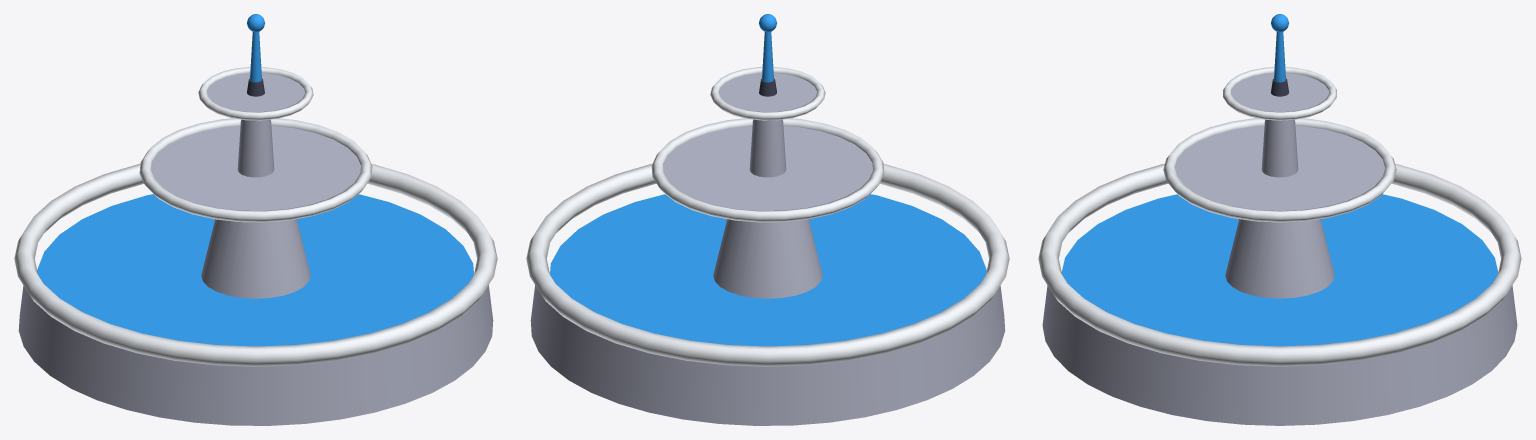
Rendered from fountain.glb.
3 views of the same model, side by side, from view 1: azimuth 30°, elevation 25°; view 2: azimuth 150°, elevation 25°; view 3: azimuth 270°, elevation 25° (orthographic).
Visible parts, largest first — view 1: basin_water, basin_wall, basin_rim, lower_bowl, fountain_pedestal, lower_bowl_rim, upper_bowl, upper_bowl_rim, fountain_column, jet_plume; view 2: basin_water, basin_wall, basin_rim, lower_bowl, fountain_pedestal, lower_bowl_rim, upper_bowl, upper_bowl_rim, fountain_column, jet_plume; view 3: basin_water, basin_wall, basin_rim, lower_bowl, fountain_pedestal, lower_bowl_rim, upper_bowl, fountain_column, upper_bowl_rim, jet_plume.
Boxes of the visible parts, box(x1,y1,x2,y2) form: basin_water: box(37, 194, 473, 346); basin_wall: box(18, 285, 493, 425); basin_rim: box(14, 163, 497, 366); lower_bowl: box(151, 125, 360, 210); fountain_pedestal: box(201, 219, 310, 298); lower_bowl_rim: box(139, 118, 372, 222); upper_bowl: box(207, 73, 304, 120); upper_bowl_rim: box(198, 67, 313, 120); fountain_column: box(237, 119, 274, 177); jet_plume: box(250, 32, 261, 82); basin_water: box(550, 194, 986, 346); basin_wall: box(530, 285, 1005, 425); basin_rim: box(526, 163, 1009, 366); lower_bowl: box(663, 125, 872, 210); fountain_pedestal: box(713, 219, 822, 298); lower_bowl_rim: box(651, 118, 884, 222); upper_bowl: box(719, 73, 816, 120); upper_bowl_rim: box(710, 67, 825, 120); fountain_column: box(749, 119, 786, 177); jet_plume: box(762, 32, 773, 82); basin_water: box(1061, 194, 1498, 346); basin_wall: box(1042, 285, 1517, 425); basin_rim: box(1038, 163, 1521, 366); lower_bowl: box(1175, 126, 1384, 210); fountain_pedestal: box(1225, 219, 1334, 298); lower_bowl_rim: box(1163, 118, 1396, 222); upper_bowl: box(1231, 73, 1328, 120); fountain_column: box(1261, 119, 1298, 177); upper_bowl_rim: box(1223, 67, 1336, 120); jet_plume: box(1274, 32, 1285, 82).
Bounding box in the file's own units: 2.36 × 1.68 × 2.36.
